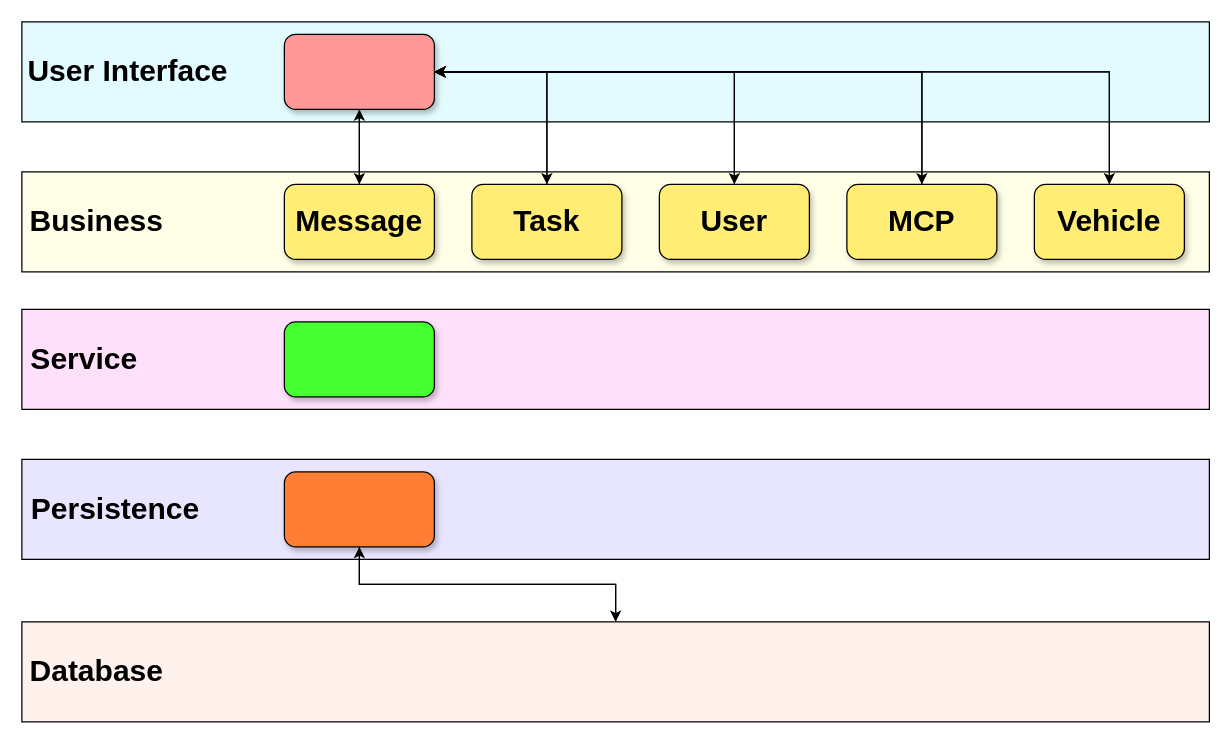
This 1231x744 diagram has some shape labels left out. Here are the shapes that lost their labels. From the top down, the centre of each, then its label:
At (x=360, y=73): "View".
At (x=360, y=361): "External API".
At (x=360, y=511): "ORM Module".
